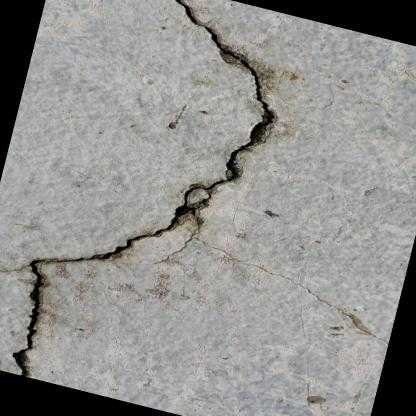crack: (11, 0, 274, 378)
